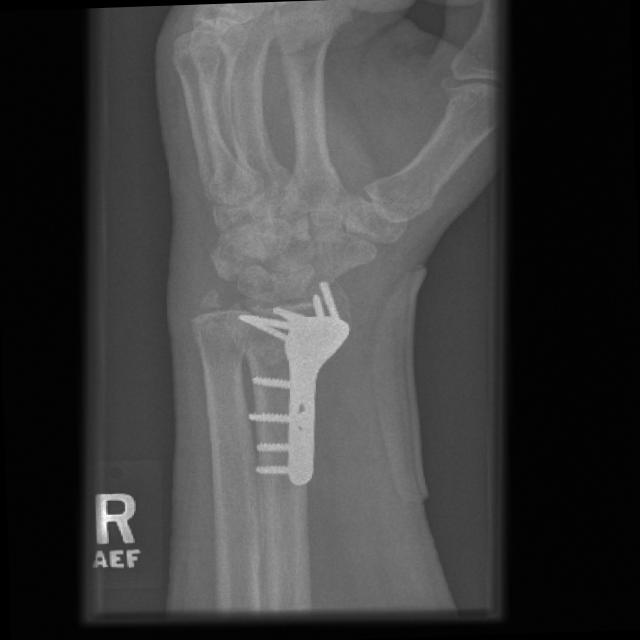wrist positive: (171, 308, 312, 382)
